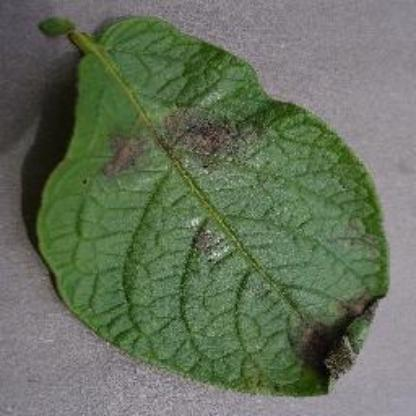Late-Blight: (14, 7, 400, 403)
